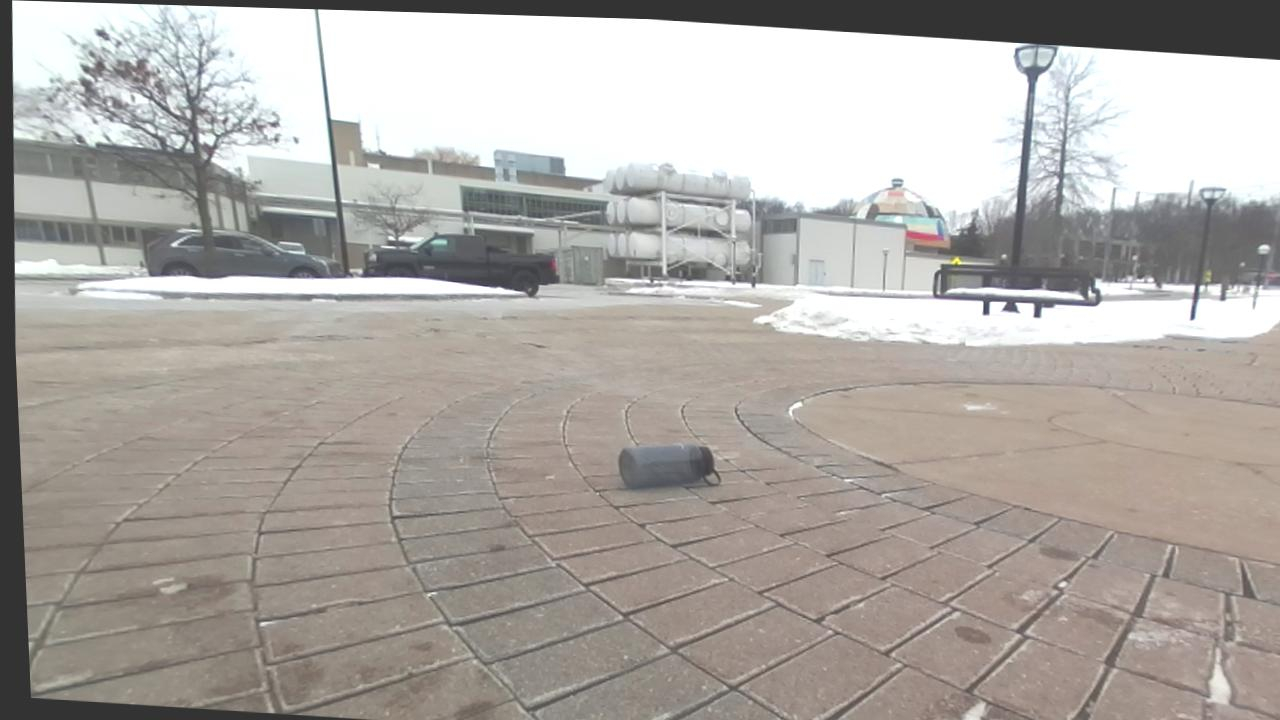bottle: (619, 445, 721, 488)
